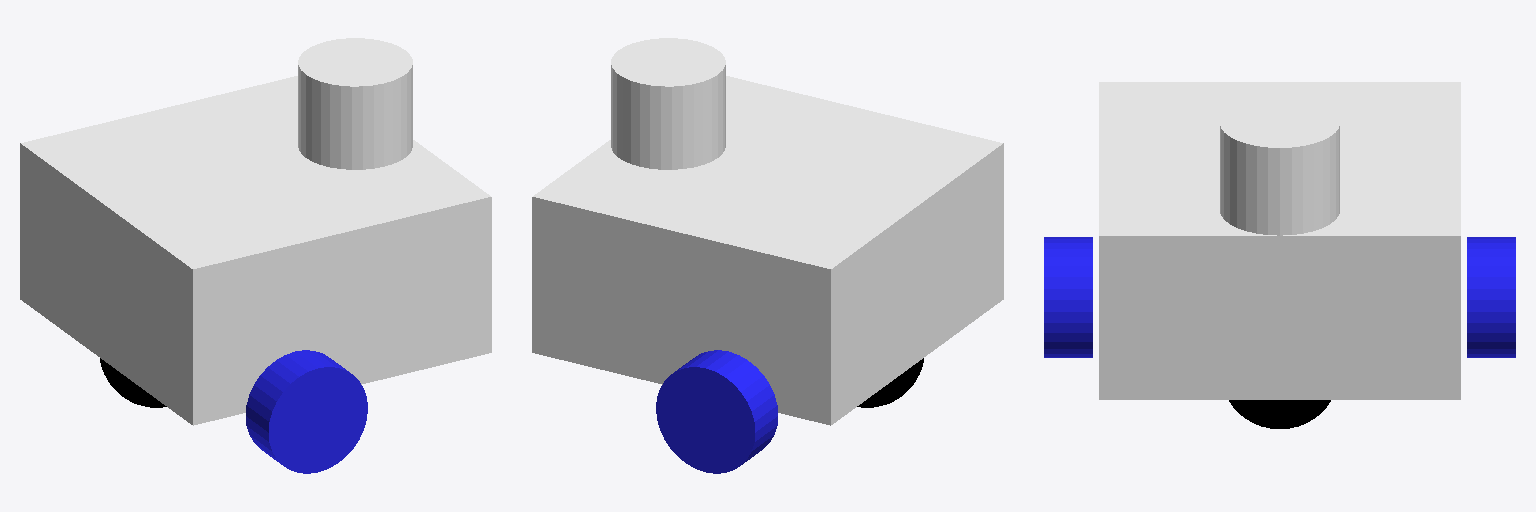
URDF robot description (robot):
<?xml version="1.0" ?>
<!-- =================================================================================== -->
<!-- |    This document was autogenerated by xacro from robot.urdf.xacro               | -->
<!-- |    EDITING THIS FILE BY HAND IS NOT RECOMMENDED                                 | -->
<!-- =================================================================================== -->
<robot name="robot">
  <material name="white">
    <color rgba="1 1 1 1"/>
  </material>
  <material name="orange">
    <color rgba="1 0.3 0.1 1"/>
  </material>
  <material name="blue">
    <color rgba="0.2 0.2 1 1"/>
  </material>
  <material name="black">
    <color rgba="0 0 0 1"/>
  </material>
  <!-- BASE LINK -->
  <link name="base_link"/>
  <!-- CHASSIS LINK -->
  <joint name="chassis_joint" type="fixed">
    <parent link="base_link"/>
    <child link="chassis"/>
    <origin xyz="-0.1 0 0"/>
  </joint>
  <link name="chassis">
    <visual>
      <origin xyz="0.15 0 0.075"/>
      <geometry>
        <box size="0.3 0.3 0.15"/>
      </geometry>
      <material name="white"/>
    </visual>
    <collision>
      <origin xyz="0.15 0 0.075"/>
      <geometry>
        <box size="0.3 0.3 0.15"/>
      </geometry>
    </collision>
    <inertial>
      <origin rpy="0 0 0" xyz="0.15 0 0.075"/>
      <mass value="0.5"/>
      <inertia ixx="0.004687499999999999" ixy="0.0" ixz="0.0" iyy="0.004687499999999999" iyz="0.0" izz="0.0075"/>
    </inertial>
  </link>
  <gazebo reference="chassis">
    <material>Gazebo/White</material>
  </gazebo>
  <!-- LEFT WHEEL LINK -->
  <joint name="left_wheel_joint" type="continuous">
    <parent link="base_link"/>
    <child link="left_wheel"/>
    <origin rpy="-1.5707963267948966 0 0" xyz="0 0.175 0"/>
    <axis xyz="0 0 1"/>
  </joint>
  <link name="left_wheel">
    <visual>
      <geometry>
        <cylinder length="0.04" radius="0.05"/>
      </geometry>
      <material name="blue"/>
    </visual>
    <collision>
      <geometry>
        <cylinder length="0.04" radius="0.05"/>
      </geometry>
    </collision>
    <inertial>
      <origin rpy="0 0 0" xyz="0 0 0"/>
      <mass value="0.1"/>
      <inertia ixx="7.583333333333335e-05" ixy="0.0" ixz="0.0" iyy="7.583333333333335e-05" iyz="0.0" izz="0.00012500000000000003"/>
    </inertial>
  </link>
  <gazebo reference="left_wheel">
    <material>Gazebo/Blue</material>
  </gazebo>
  <!-- RIGHT WHEEL LINK -->
  <joint name="right_wheel_joint" type="continuous">
    <parent link="base_link"/>
    <child link="right_wheel"/>
    <origin rpy="1.5707963267948966 0 0" xyz="0 -0.175 0"/>
    <axis xyz="0 0 -1"/>
  </joint>
  <link name="right_wheel">
    <visual>
      <geometry>
        <cylinder length="0.04" radius="0.05"/>
      </geometry>
      <material name="blue"/>
    </visual>
    <collision>
      <geometry>
        <cylinder length="0.04" radius="0.05"/>
      </geometry>
    </collision>
    <inertial>
      <origin rpy="0 0 0" xyz="0 0 0"/>
      <mass value="0.1"/>
      <inertia ixx="7.583333333333335e-05" ixy="0.0" ixz="0.0" iyy="7.583333333333335e-05" iyz="0.0" izz="0.00012500000000000003"/>
    </inertial>
  </link>
  <gazebo reference="right_wheel">
    <material>Gazebo/Blue</material>
  </gazebo>
  <!-- CASTER WHEEL FRONT -->
  <joint name="caster_wheel_joint" type="fixed">
    <parent link="chassis"/>
    <child link="caster_wheel"/>
    <origin xyz="0.24 0 0"/>
  </joint>
  <link name="caster_wheel">
    <visual>
      <geometry>
        <sphere radius="0.05"/>
      </geometry>
      <material name="black"/>
    </visual>
    <collision>
      <geometry>
        <sphere radius="0.05"/>
      </geometry>
    </collision>
    <inertial>
      <origin rpy="0 0 0" xyz="0 0 0"/>
      <mass value="0.1"/>
      <inertia ixx="0.00010000000000000005" ixy="0.0" ixz="0.0" iyy="0.00010000000000000005" iyz="0.0" izz="0.00010000000000000005"/>
    </inertial>
  </link>
  <gazebo reference="caster_wheel">
    <material>Gazebo/Black</material>
    <mu1 value="0.001"/>
    <mu2 value="0.001"/>
  </gazebo>
  <!-- CASTER WHEEL BACK -->
  <joint name="back_caster_wheel_joint" type="fixed">
    <parent link="chassis"/>
    <child link="back_caster_wheel"/>
    <origin xyz="0.05 0 0"/>
  </joint>
  <link name="back_caster_wheel">
    <visual>
      <geometry>
        <sphere radius="0.05"/>
      </geometry>
      <material name="black"/>
    </visual>
    <collision>
      <geometry>
        <sphere radius="0.05"/>
      </geometry>
    </collision>
    <inertial>
      <origin rpy="0 0 0" xyz="0 0 0"/>
      <mass value="0.1"/>
      <inertia ixx="0.00010000000000000005" ixy="0.0" ixz="0.0" iyy="0.00010000000000000005" iyz="0.0" izz="0.00010000000000000005"/>
    </inertial>
  </link>
  <gazebo reference="back_caster_wheel">
    <material>Gazebo/Black</material>
    <mu1 value="0.001"/>
    <mu2 value="0.001"/>
  </gazebo>
  <gazebo>
    <plugin filename="libgazebo_ros_diff_drive.so" name="diff_drive">
      <!-- Wheel Information -->
      <left_joint>left_wheel_joint</left_joint>
      <right_joint>right_wheel_joint</right_joint>
      <wheel_separation>0.35</wheel_separation>
      <wheel_diameter>0.1</wheel_diameter>
      <!-- Limits -->
      <max_wheel_torque>200</max_wheel_torque>
      <max_wheel_acceleration>10.0</max_wheel_acceleration>
      <!-- Output -->
      <odometry_frame>odom</odometry_frame>
      <robot_base_frame>base_link</robot_base_frame>
      <publish_odom>true</publish_odom>
      <publish_odom_tf>true</publish_odom_tf>
      <publish_wheel_tf>true</publish_wheel_tf>
    </plugin>
  </gazebo>
  <ros2_control name="GazeboSystem" type="system">
    <hardware>
      <plugin>gazebo_ros2_control/GazeboSystem</plugin>
    </hardware>
    <joint name="arm_base_joint">
      <command_interface name="position">
        <param name="min">-1</param>
        <param name="max">1</param>
      </command_interface>
      <state_interface name="position"/>
      <state_interface name="velocity"/>
      <state_interface name="effort"/>
    </joint>
    <joint name="shoulder_joint">
      <command_interface name="position">
        <param name="min">-1</param>
        <param name="max">1</param>
      </command_interface>
      <state_interface name="position"/>
      <state_interface name="velocity"/>
      <state_interface name="effort"/>
    </joint>
    <joint name="top_wrist_joint">
      <command_interface name="position">
        <param name="min">-1</param>
        <param name="max">1</param>
      </command_interface>
      <state_interface name="position"/>
      <state_interface name="velocity"/>
      <state_interface name="effort"/>
    </joint>
    <joint name="bottom_wrist_joint">
      <command_interface name="position">
        <param name="min">-1</param>
        <param name="max">1</param>
      </command_interface>
      <state_interface name="position"/>
      <state_interface name="velocity"/>
      <state_interface name="effort"/>
    </joint>
    <joint name="elbow_joint">
      <command_interface name="position">
        <param name="min">-1</param>
        <param name="max">1</param>
      </command_interface>
      <state_interface name="position"/>
      <state_interface name="velocity"/>
      <state_interface name="effort"/>
    </joint>
  </ros2_control>
  <!-- <gazebo>
        <plugin name="gazebo_ros_control" filename="libgazebo_ros_control.so">
            <robotNamespace>/robot</robotNamespace>
            <controlPeriod>0.001</controlPeriod>
            <legacyModeNS>false</legacyModeNS>
        </plugin>
    </gazebo> -->
  <gazebo>
    <plugin filename="libgazebo_ros2_control.so" name="gazebo_ros2_control">
      <robot_param>robot_description</robot_param>
      <robot_param_node>robot_state_publisher</robot_param_node>
      <parameters>[local-path]/Desktop/projects/SmartRobotics_Project/robot/install/robot/share/robot/config/robot.yaml</parameters>
    </plugin>
  </gazebo>
  <!-- <gazebo>
        <plugin name="gazebo_ros_joint_state_publisher"
            filename="libgazebo_ros_joint_state_publisher.so">
            <update_rate>20</update_rate>
            <joint_name>slider_joint</joint_name>
            <joint_name>arm_joint</joint_name>
        </plugin>
    </gazebo> -->
  <!-- <gazebo>
        <plugin name="joint_state_publisher" filename="libgazebo_ros_joint_state_publisher.so">
            <update_rate>20</update_rate>
            <joint_name>arm_base_joint</joint_name>
            <joint_name>shoulder_joint</joint_name>
            <joint_name>bottom_wrist_joint</joint_name>
            <joint_name>elbow_joint</joint_name>
            <joint_name>top_wrist_joint</joint_name>
        </plugin>
    </gazebo> -->
  <gazebo reference="sensor_laser">
    <sensor name="lidar" type="ray">
      <pose>0.215 0 0.215 0 0 0</pose>
      <always_on>true</always_on>
      <visualize>true</visualize>
      <update_rate>5</update_rate>
      <ray>
        <scan>
          <horizontal>
            <samples>360</samples>
            <resolution>1.00000</resolution>
            <min_angle>-1.57</min_angle>
            <max_angle>1.57</max_angle>
          </horizontal>
        </scan>
        <range>
          <min>0.120000</min>
          <max>3.5</max>
          <resolution>0.015000</resolution>
        </range>
        <noise>
          <type>gaussian</type>
          <mean>0.0</mean>
          <stddev>0.01</stddev>
        </noise>
      </ray>
      <plugin filename="libgazebo_ros_ray_sensor.so" name="scan">
        <ros>
          <remapping>~/out:=scan</remapping>
        </ros>
        <output_type>sensor_msgs/LaserScan</output_type>
        <frame_name>lidar_link</frame_name>
      </plugin>
    </sensor>
  </gazebo>
  <!--sensor laser -->
  <joint name="joint_sensor_laser" type="fixed">
    <origin rpy="0 0 0" xyz="0.15 0 0.18"/>
    <parent link="base_link"/>
    <child link="sensor_laser"/>
  </joint>
  <link name="sensor_laser">
    <inertial>
      <origin rpy="0 0 0" xyz="0 0 0"/>
      <mass value="0.1"/>
      <inertia ixx="7.583333333333335e-05" ixy="0.0" ixz="0.0" iyy="7.583333333333335e-05" iyz="0.0" izz="0.00012500000000000003"/>
    </inertial>
    <visual>
      <origin rpy="0 0 0" xyz="0 0 0"/>
      <geometry>
        <cylinder length="0.1" radius="0.05"/>
      </geometry>
      <material name="white"/>
    </visual>
    <collision>
      <origin rpy="0 0 0" xyz="0 0 0"/>
      <geometry>
        <cylinder length="0.1" radius="0.05"/>
      </geometry>
    </collision>
  </link>
  <!-- ARM BASE -->
  <joint name="arm_base_joint" type="revolute">
    <axis xyz="0 0 1"/>
    <parent link="base_link"/>
    <child link="arm_base"/>
    <origin rpy="0 0 0" xyz="0.0 0.0 0.15"/>
    <limit effort="30" lower="-2.2" upper="0.7" velocity="1.0"/>
  </joint>
  <link name="arm_base">
    <inertial>
      <origin rpy="0 0 0" xyz="0 0 0"/>
      <mass value="1.6004"/>
      <inertia ixx="0.00552196561445819" ixy="7.9550614501301E-10" ixz="-1.34378458924839E-09" iyy="0.00352397447953875" iyz="-1.10071809773382E-08" izz="0.00553739792746489"/>
    </inertial>
    <visual>
      <origin rpy="0 0 0" xyz="0 0 0"/>
      <geometry>
        <mesh filename="file://[local-path]/Desktop/projects/SmartRobotics_Project/robot/install/robot/share/robot/description/meshes/arm_base.stl"/>
      </geometry>
      <material name="">
        <color rgba="0.79216 0.81961 0.93333 1"/>
      </material>
    </visual>
    <collision>
      <origin rpy="0 0 0" xyz="0 0 0"/>
      <geometry>
        <mesh filename="file://[local-path]/Desktop/projects/SmartRobotics_Project/robot/install/robot/share/robot/description/meshes/arm_base.stl"/>
      </geometry>
    </collision>
  </link>
  <gazebo reference="arm_base">
    <material>Gazebo/White</material>
    <turnGravityOff>true</turnGravityOff>
  </gazebo>
  <!-- BICEP -->
  <joint name="shoulder_joint" type="continuous">
    <axis xyz="0 1 0"/>
    <parent link="arm_base"/>
    <child link="bicep"/>
    <origin rpy="0 0 1.5708" xyz="-0.05166 0.0 0.20271"/>
  </joint>
  <link name="bicep">
    <inertial>
      <origin rpy="0 0 0" xyz="0.12821 3.5589E-06 0.052492"/>
      <mass value="1.1198"/>
      <inertia ixx="0.0012474" ixy="-5.4004E-07" ixz="-0.0013148" iyy="0.0072923" iyz="-1.8586E-07" izz="0.0068178"/>
    </inertial>
    <visual>
      <origin rpy="0 -1.5708 0" xyz="0 0 0"/>
      <geometry>
        <mesh filename="file://[local-path]/Desktop/projects/SmartRobotics_Project/robot/install/robot/share/robot/description/meshes/bicep.stl"/>
      </geometry>
      <material name="">
        <color rgba="0.79216 0.81961 0.93333 1"/>
      </material>
    </visual>
    <collision>
      <origin rpy="0 -1.5708 0" xyz="0 0 0"/>
      <geometry>
        <mesh filename="file://[local-path]/Desktop/projects/SmartRobotics_Project/robot/install/robot/share/robot/description/meshes/bicep.stl"/>
      </geometry>
    </collision>
  </link>
  <gazebo reference="bicep">
    <material>Gazebo/White</material>
    <turnGravityOff>true</turnGravityOff>
  </gazebo>
  <!-- TOP WRIST -->
  <joint name="top_wrist_joint" type="continuous">
    <axis xyz="0 1 0"/>
    <parent link="elbow"/>
    <child link="top_wrist"/>
    <origin rpy="0 0 0" xyz="0.0 0 0.20994"/>
  </joint>
  <link name="top_wrist">
    <inertial>
      <origin rpy="0 0 0" xyz="-9.1053E-08 -0.069257 -1.86629999995759E-07"/>
      <mass value="0.27721"/>
      <inertia ixx="0.00104290750143942" ixy="4.37155302268076E-09" ixz="-2.45049603914627E-09" iyy="0.000380518373895034" iyz="-7.56009835172156E-09" izz="0.00106006525067445"/>
    </inertial>
    <visual>
      <origin rpy="3.14 0 1.5708" xyz="0 0 0.13522"/>
      <geometry>
        <mesh filename="file://[local-path]/Desktop/projects/SmartRobotics_Project/robot/install/robot/share/robot/description/meshes/wrist.stl"/>
      </geometry>
      <material name="">
        <color rgba="0.79216 0.81961 0.93333 1"/>
      </material>
    </visual>
    <collision>
      <origin rpy="3.14 0 1.5708" xyz="0 0 0.13522"/>
      <geometry>
        <mesh filename="file://[local-path]/Desktop/projects/SmartRobotics_Project/robot/install/robot/share/robot/description/meshes/wrist.stl"/>
      </geometry>
    </collision>
  </link>
  <gazebo reference="top_wrist">
    <material>Gazebo/White</material>
    <turnGravityOff>true</turnGravityOff>
  </gazebo>
  <!-- BOTTON WRIST -->
  <joint name="bottom_wrist_joint" type="continuous">
    <axis xyz="0 1 0"/>
    <parent link="bicep"/>
    <child link="bottom_wrist"/>
    <origin rpy="0 0 0" xyz="0.0 -0.05194 0.269"/>
  </joint>
  <link name="bottom_wrist">
    <inertial>
      <origin rpy="0 0 0" xyz="-9.1053E-08 -0.069257 -1.86629999995759E-07"/>
      <mass value="0.27721"/>
      <inertia ixx="0.00104290750143942" ixy="4.37155302268076E-09" ixz="-2.45049603914627E-09" iyy="0.000380518373895034" iyz="-7.56009835172156E-09" izz="0.00106006525067445"/>
    </inertial>
    <visual>
      <origin rpy="3.14 0 1.5708" xyz="0 0 0.13522"/>
      <geometry>
        <mesh filename="file://[local-path]/Desktop/projects/SmartRobotics_Project/robot/install/robot/share/robot/description/meshes/wrist.stl"/>
      </geometry>
      <material name="">
        <color rgba="0.79216 0.81961 0.93333 1"/>
      </material>
    </visual>
    <collision>
      <origin rpy="3.14 0 1.5708" xyz="0 0 0.13522"/>
      <geometry>
        <mesh filename="file://[local-path]/Desktop/projects/SmartRobotics_Project/robot/install/robot/share/robot/description/meshes/wrist.stl"/>
      </geometry>
    </collision>
  </link>
  <gazebo reference="bottom_wrist">
    <material>Gazebo/White</material>
    <turnGravityOff>true</turnGravityOff>
  </gazebo>
  <!-- ELBOW -->
  <joint name="elbow_joint" type="continuous">
    <axis xyz="0 0 1"/>
    <parent link="bottom_wrist"/>
    <child link="elbow"/>
    <origin rpy="0 0 0" xyz="0.0 0 0.13522"/>
  </joint>
  <link name="elbow">
    <inertial>
      <origin rpy="0 0 0" xyz="-0.11109 1.1476E-08 0.046469"/>
      <mass value="0.84845"/>
      <inertia ixx="0.00079656" ixy="-7.8011E-10" ixz="0.00053616" iyy="0.003576" iyz="4.6326E-10" izz="0.0033698"/>
    </inertial>
    <visual>
      <origin rpy="0 -1.5708 0" xyz="0.0 0.05163 0.20994"/>
      <geometry>
        <mesh filename="file://[local-path]/Desktop/projects/SmartRobotics_Project/robot/install/robot/share/robot/description/meshes/elbow.stl"/>
      </geometry>
      <material name="">
        <color rgba="0.79216 0.81961 0.93333 1"/>
      </material>
    </visual>
    <collision>
      <origin rpy="0 -1.5708 0" xyz="0.0 0.05163 0.20994"/>
      <geometry>
        <mesh filename="file://[local-path]/Desktop/projects/SmartRobotics_Project/robot/install/robot/share/robot/description/meshes/elbow.stl"/>
      </geometry>
    </collision>
  </link>
  <gazebo reference="elbow">
    <material>Gazebo/White</material>
    <turnGravityOff>true</turnGravityOff>
  </gazebo>
  <!-- TRANSMISSIONS -->
  <transmission name="arm_base_trans" type="SimpleTransmission">
    <type>transmission_interface/SimpleTransmission</type>
    <actuator name="arm_base_motor">
      <hardwareInterface>EffortJointInterface</hardwareInterface>
      <mechanicalReduction>1</mechanicalReduction>
    </actuator>
    <joint name="arm_base_joint">
      <hardwareInterface>EffortJointInterface</hardwareInterface>
    </joint>
  </transmission>
  <transmission name="shoulder_trans" type="SimpleTransmission">
    <type>transmission_interface/SimpleTransmission</type>
    <actuator name="shoulder_motor">
      <hardwareInterface>EffortJointInterface</hardwareInterface>
      <mechanicalReduction>1</mechanicalReduction>
    </actuator>
    <joint name="shoulder_joint">
      <hardwareInterface>EffortJointInterface</hardwareInterface>
    </joint>
  </transmission>
  <transmission name="bottom_wrist_trans" type="SimpleTransmission">
    <type>transmission_interface/SimpleTransmission</type>
    <actuator name="bottom_wrist_motor">
      <hardwareInterface>EffortJointInterface</hardwareInterface>
      <mechanicalReduction>1</mechanicalReduction>
    </actuator>
    <joint name="bottom_wrist_joint">
      <hardwareInterface>EffortJointInterface</hardwareInterface>
    </joint>
  </transmission>
  <transmission name="elbow_trans" type="SimpleTransmission">
    <type>transmission_interface/SimpleTransmission</type>
    <actuator name="elbow_motor">
      <hardwareInterface>EffortJointInterface</hardwareInterface>
      <mechanicalReduction>1</mechanicalReduction>
    </actuator>
    <joint name="elbow_joint">
      <hardwareInterface>EffortJointInterface</hardwareInterface>
    </joint>
  </transmission>
  <transmission name="top_wrist_trans" type="SimpleTransmission">
    <type>transmission_interface/SimpleTransmission</type>
    <actuator name="top_wrist_motor">
      <hardwareInterface>EffortJointInterface</hardwareInterface>
      <mechanicalReduction>1</mechanicalReduction>
    </actuator>
    <joint name="top_wrist_joint">
      <hardwareInterface>EffortJointInterface</hardwareInterface>
    </joint>
  </transmission>
</robot>

--- Render facts (derived) ---
The picture shows the robot from 3 angles, left to right: view 1: azimuth 30°, elevation 25°; view 2: azimuth 150°, elevation 25°; view 3: azimuth 270°, elevation 25°; orthographic projection.
Model robot with 12 links and 11 joints (1 revolute, 6 continuous, 4 fixed), rooted at base_link, posed every joint at zero.
Links seen in each view (by area): view 1: chassis, sensor_laser, right_wheel, back_caster_wheel; view 2: chassis, sensor_laser, left_wheel, back_caster_wheel; view 3: chassis, sensor_laser, left_wheel, right_wheel, caster_wheel.
Boxes of the visible links, bbox=[...] form: chassis: bbox=[20, 76, 491, 425]; sensor_laser: bbox=[298, 38, 412, 169]; right_wheel: bbox=[246, 350, 367, 473]; back_caster_wheel: bbox=[100, 358, 166, 407]; chassis: bbox=[532, 76, 1003, 425]; sensor_laser: bbox=[611, 38, 725, 169]; left_wheel: bbox=[656, 350, 777, 473]; back_caster_wheel: bbox=[857, 358, 923, 407]; chassis: bbox=[1099, 82, 1460, 399]; sensor_laser: bbox=[1220, 97, 1339, 235]; left_wheel: bbox=[1467, 237, 1515, 357]; right_wheel: bbox=[1044, 237, 1092, 357]; caster_wheel: bbox=[1229, 400, 1330, 428].
Bounding box of the posed robot: 0.3 × 0.39 × 0.28 m (x, y, z).
Geometry: only primitive shapes (box / cylinder / sphere) drawn; not drawn: 5 mesh visuals (reference in a form the renderer does not follow).
